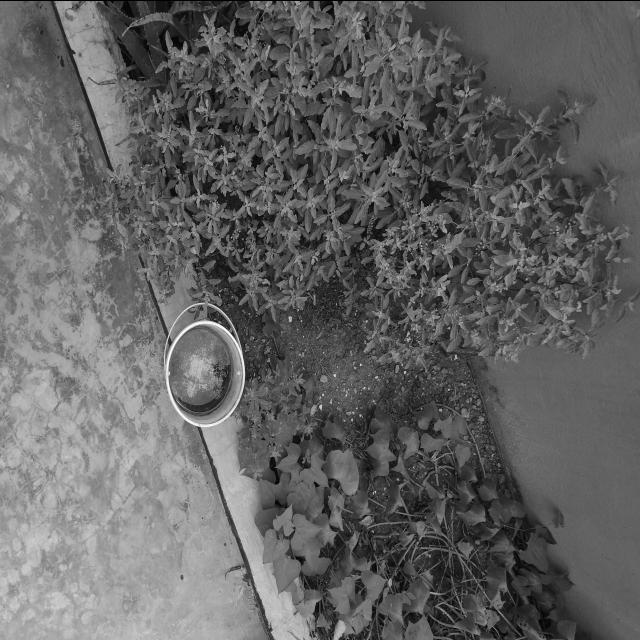Breeding Place: (52, 0, 475, 402), (169, 310, 595, 640), (148, 285, 258, 457)
